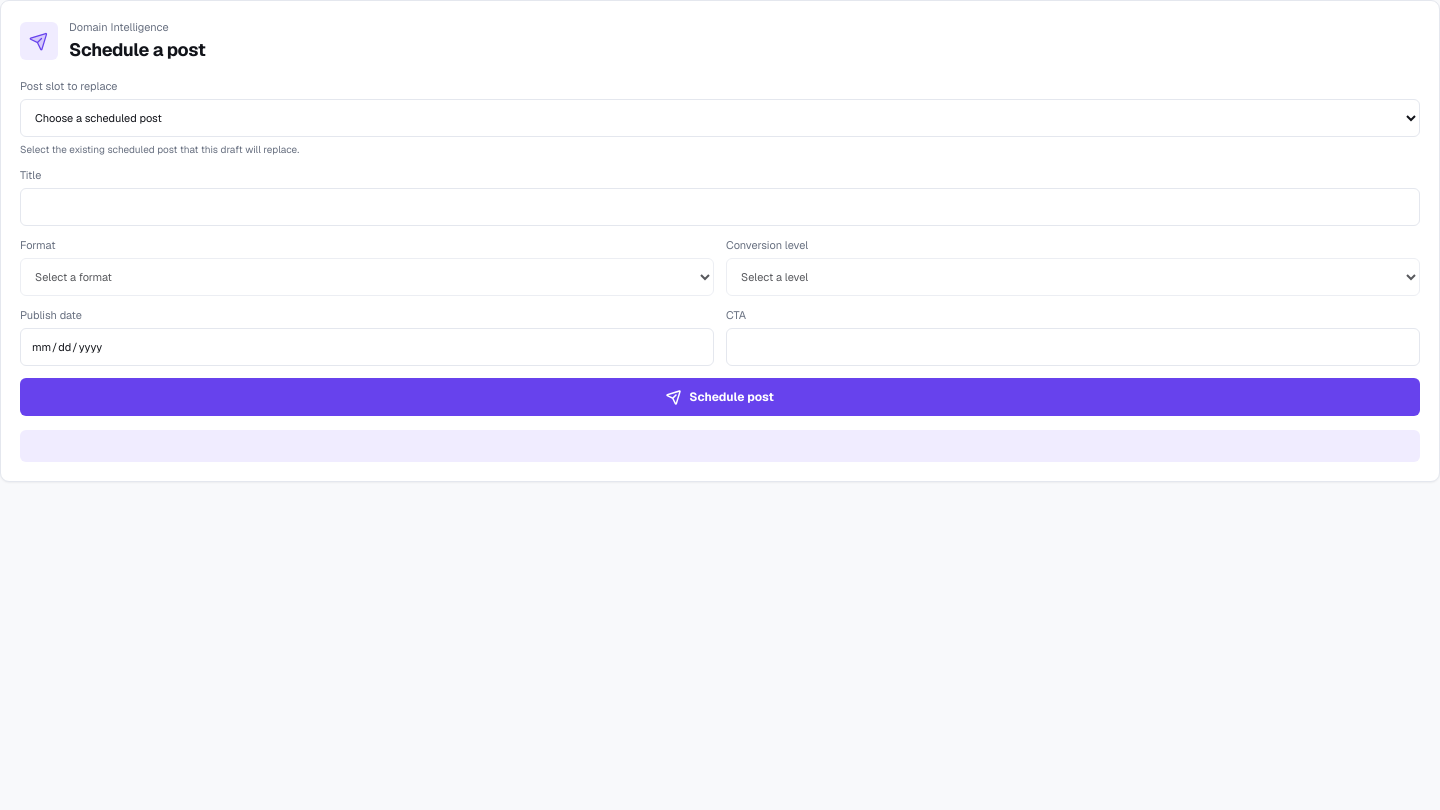
Test: requires a disclosed target and focuses the slot selector
expect the dropdown labelled "Post slot to replace" is shown: met, box left=20, top=99, right=1420, bottom=137
Click the button "Schedule post". click: point(720, 397)
box: left=20, top=378, right=1420, bottom=416
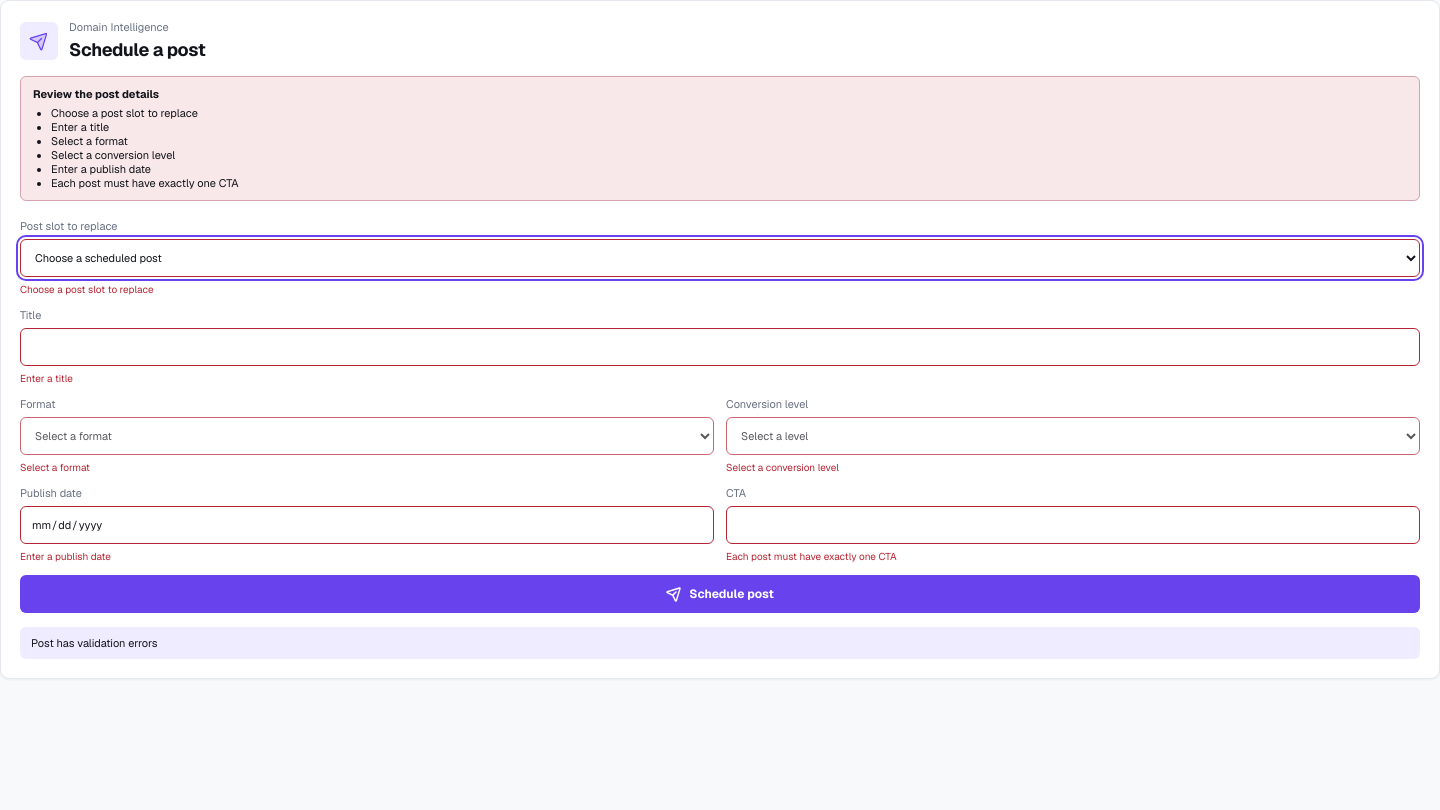
expect the message that starts with "Review the post details" shows "Choose a post slot to replace": met, box left=51, top=106, right=198, bottom=120
